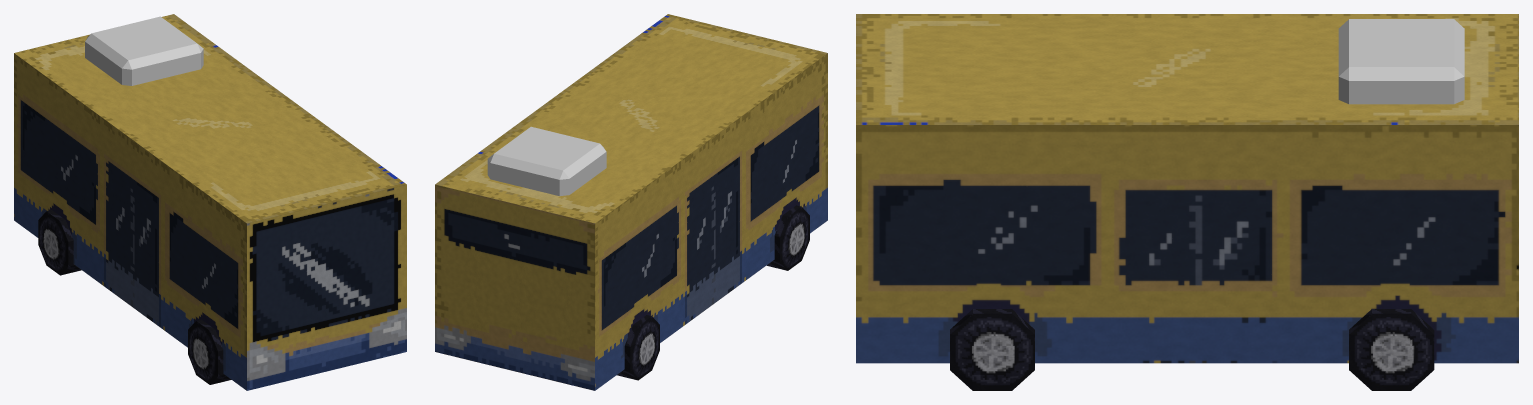
The model's file is bus.fbx.
The picture shows the model from 3 angles, left to right: view 1: azimuth 30°, elevation 25°; view 2: azimuth 150°, elevation 25°; view 3: azimuth 270°, elevation 25°; orthographic projection. The views are drawn at different scales.
Parts seen in each view (by area): view 1: bus; view 2: bus; view 3: bus.
Boxes of the visible parts, x1,y1,x2,y2 form: bus: (14, 14, 406, 390); bus: (435, 14, 827, 390); bus: (856, 14, 1518, 390).
Size of the model in its own units: 305 by 340 by 696.
